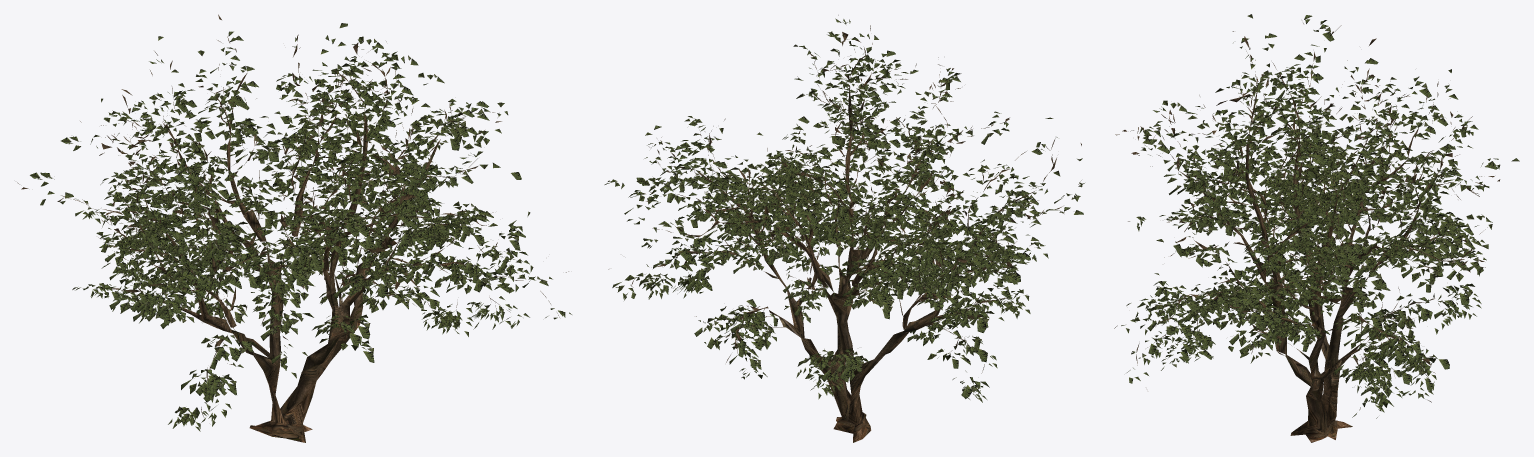
The model's file is jacaranda_tree.glb.
3 views of the same model, side by side, from view 1: azimuth 30°, elevation 25°; view 2: azimuth 150°, elevation 25°; view 3: azimuth 270°, elevation 25° (orthographic). The views are drawn at different scales.
Parts seen in each view (by area): view 1: jacaranda_tree_LOD0; view 2: jacaranda_tree_LOD0; view 3: jacaranda_tree_LOD0.
Boxes of the visible parts, x1=… form: jacaranda_tree_LOD0: x1=17, y1=14, x2=571, y2=442; jacaranda_tree_LOD0: x1=604, y1=15, x2=1084, y2=442; jacaranda_tree_LOD0: x1=1114, y1=14, x2=1519, y2=442.
Bounding box in the file's own units: 23.47 × 19.17 × 18.15.
Materials: 3 (3 with a texture image).
